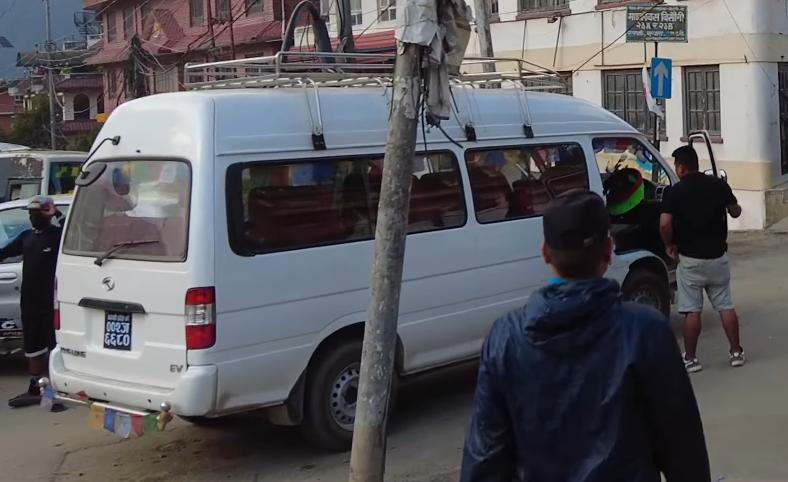micro_bus: (49, 61, 714, 449)
